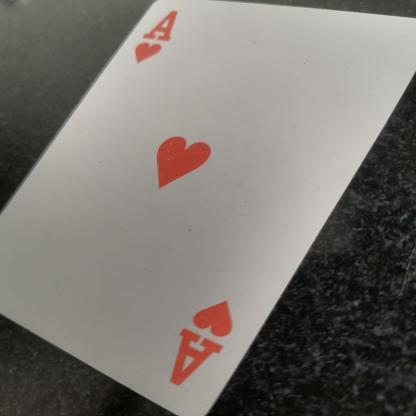AH: (158, 290, 256, 388), (124, 2, 186, 70)
